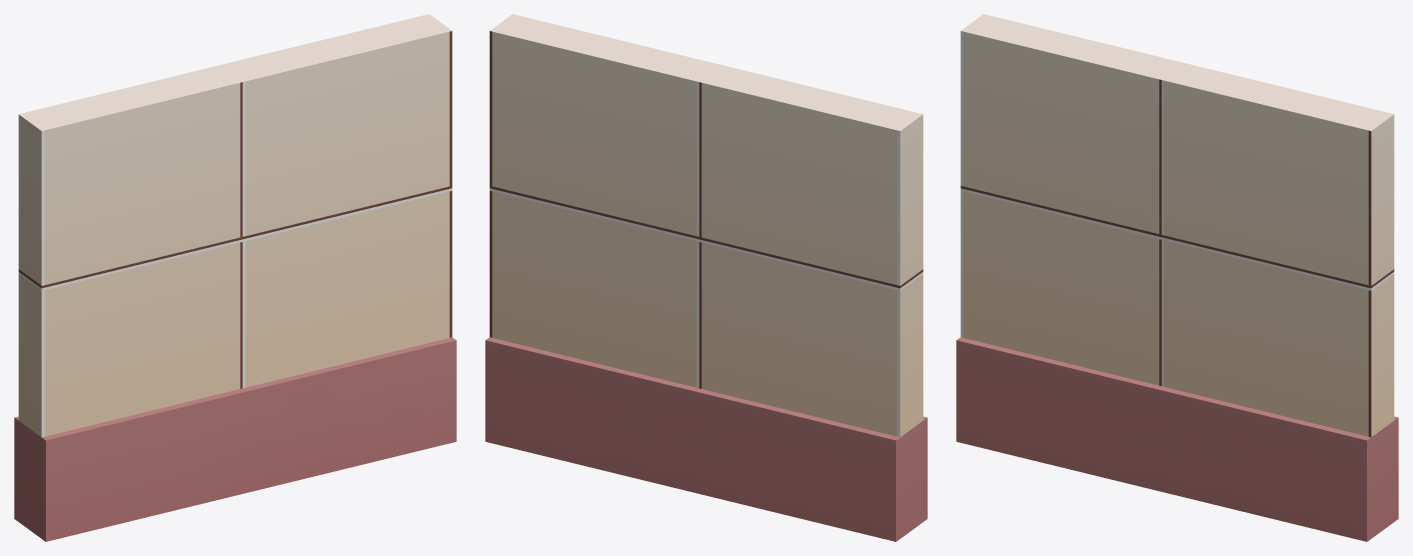
File: M1_Wall_ElectricRoom.fbx
The picture shows the model from 3 angles, left to right: view 1: azimuth 30°, elevation 25°; view 2: azimuth 150°, elevation 25°; view 3: azimuth 330°, elevation 25°; orthographic projection.
Parts seen in each view (by area): view 1: M1_Wall_ElectricRoom; view 2: M1_Wall_ElectricRoom; view 3: M1_Wall_ElectricRoom.
Boxes of the visible parts, x1,y1,x2,y2 form: M1_Wall_ElectricRoom: (14, 14, 456, 541); M1_Wall_ElectricRoom: (485, 14, 927, 541); M1_Wall_ElectricRoom: (956, 14, 1398, 541).
Size of the model in its own units: 400 by 379 by 53.02.
